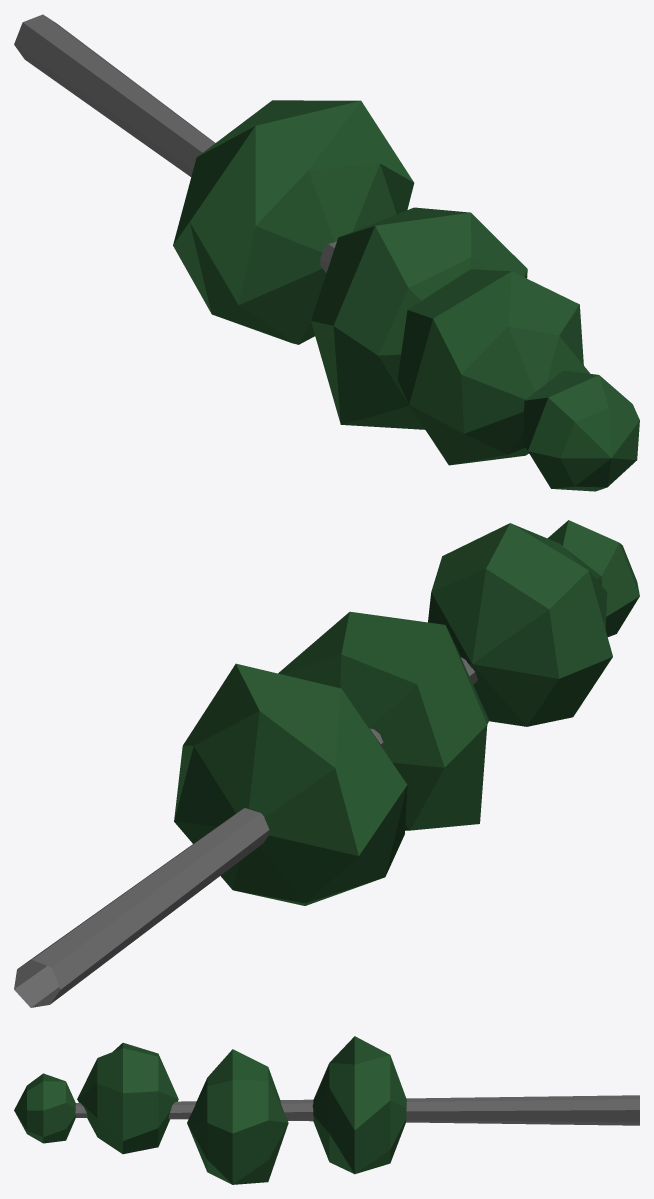
Rendered from growth_2.glb.
The picture shows the model from 3 angles, top to bottom: view 1: azimuth 30°, elevation 25°; view 2: azimuth 150°, elevation 25°; view 3: azimuth 270°, elevation 25°; orthographic projection. The views are drawn at different scales.
Parts seen in each view (by area): view 1: tree_05_growth_2; view 2: tree_05_growth_2; view 3: tree_05_growth_2.
Part boxes in pixels (left/top/right/bottom): tree_05_growth_2: left=14, top=14, right=639, bottom=491; tree_05_growth_2: left=14, top=520, right=639, bottom=1007; tree_05_growth_2: left=14, top=1036, right=639, bottom=1184.
Size of the model in its own units: 9.13 by 9.23 by 40.08.
